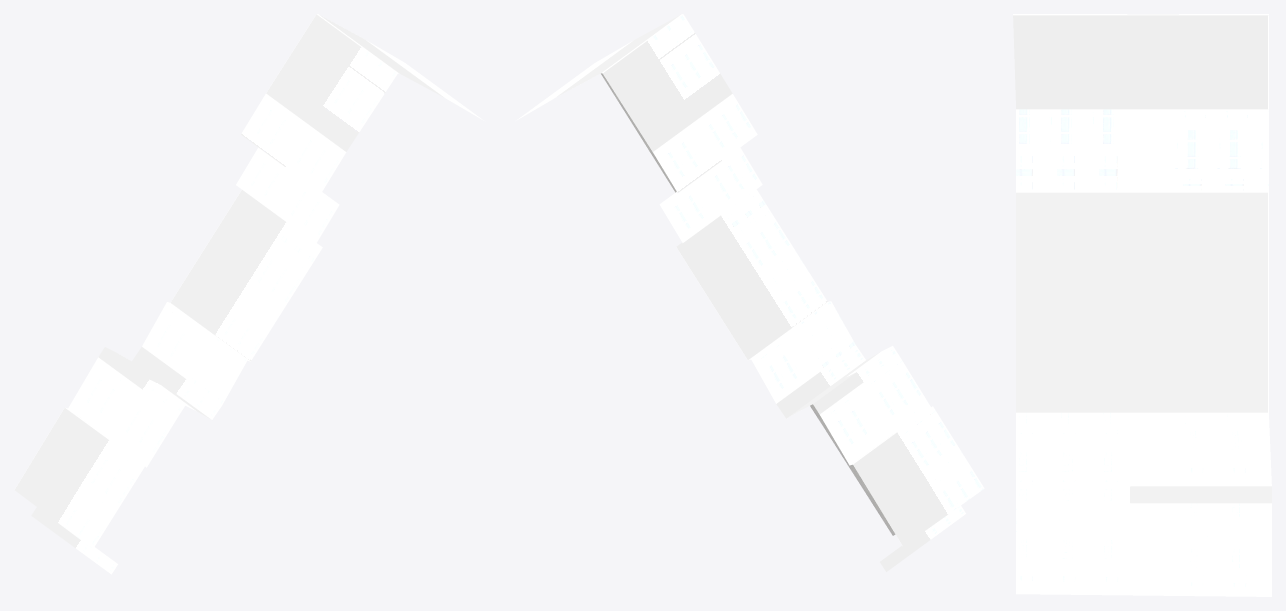
3 renders of one model, left to right at view 1: azimuth 30°, elevation 25°; view 2: azimuth 150°, elevation 25°; view 3: azimuth 270°, elevation 25°, orthographic. The views are drawn at different scales.
Parts seen in each view (by area): view 1: BuildingMaster_1996193109364464009900000000_0; view 2: BuildingMaster_1996193109364464009900000000_0, BuildingMaster_1996193109364464009900000000_1; view 3: BuildingMaster_1996193109364464009900000000_0.
Part boxes in pixels (bbox=[...]): BuildingMaster_1996193109364464009900000000_0: bbox=[14, 14, 483, 574]; BuildingMaster_1996193109364464009900000000_0: bbox=[516, 14, 984, 571]; BuildingMaster_1996193109364464009900000000_1: bbox=[601, 73, 895, 535]; BuildingMaster_1996193109364464009900000000_0: bbox=[1013, 14, 1271, 596].
Bounding box in the file's own units: 58.5 × 67.5 × 21.25.
